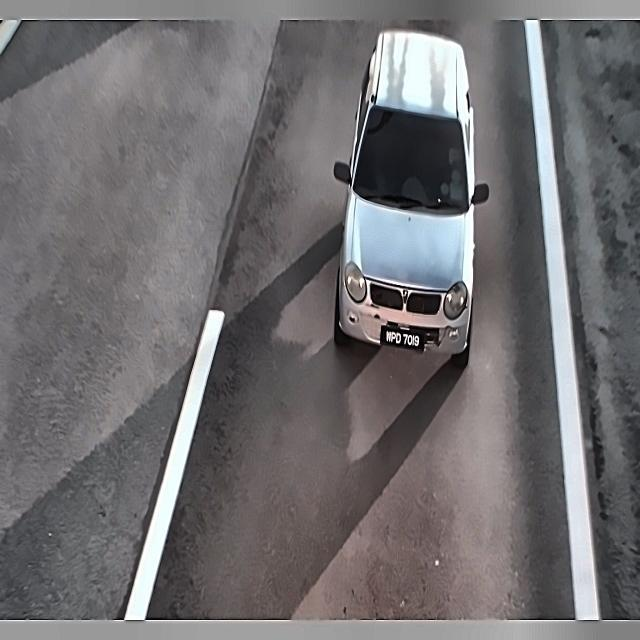car: (376, 322, 429, 356)
